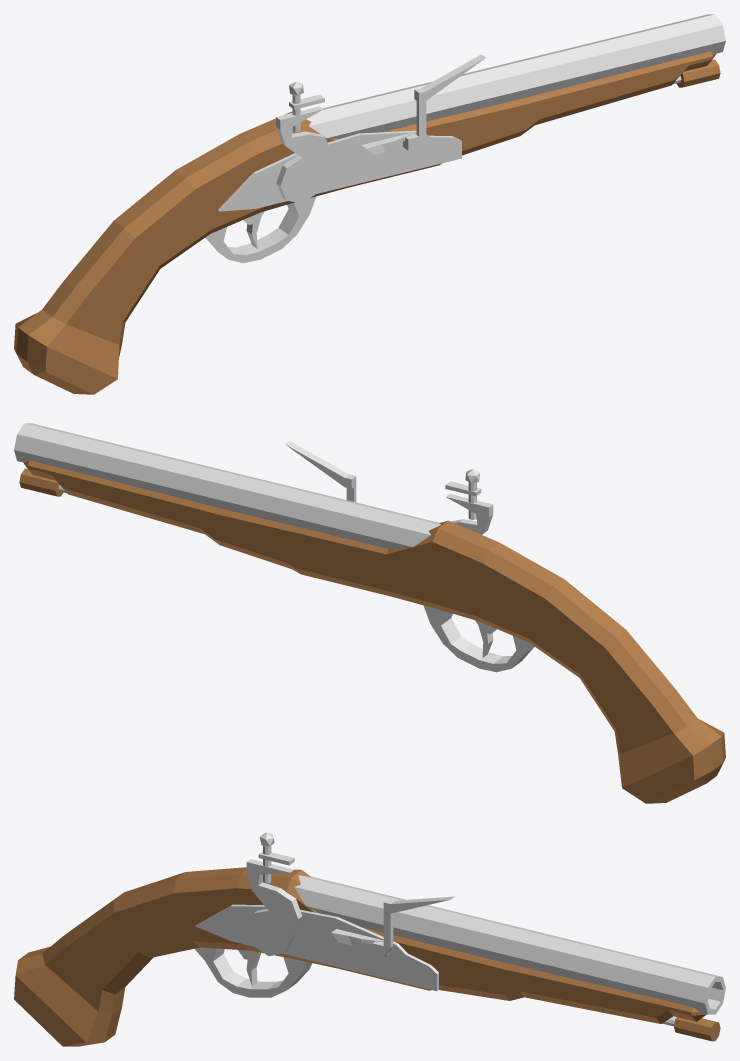
The model's file is pistolet modele 1733.fbx.
The picture shows the model from 3 angles, top to bottom: view 1: azimuth 30°, elevation 25°; view 2: azimuth 150°, elevation 25°; view 3: azimuth 330°, elevation 25°; orthographic projection.
Parts seen in each view (by area): view 1: base, barrel, metal1, cock, triggerguard, trizzen, ramrod, jaw; view 2: base, barrel, triggerguard, trizzen, cock, ramrod, jaw; view 3: base, barrel, metal1, cock, triggerguard, trizzen, ramrod, jaw, pan, trigger.
Boxes of the visible parts, left/top/right/bottom form: base: left=14, top=51, right=715, bottom=394; barrel: left=306, top=14, right=725, bottom=138; metal1: left=218, top=130, right=461, bottom=211; cock: left=276, top=106, right=331, bottom=203; triggerguard: left=205, top=196, right=316, bottom=263; trizzen: left=403, top=54, right=485, bottom=150; ramrod: left=673, top=59, right=720, bottom=87; jaw: left=289, top=81, right=324, bottom=132; base: left=24, top=460, right=725, bottom=803; barrel: left=14, top=423, right=440, bottom=548; triggerguard: left=423, top=605, right=534, bottom=672; trizzen: left=285, top=440, right=356, bottom=502; cock: left=446, top=494, right=493, bottom=534; ramrod: left=19, top=468, right=66, bottom=496; jaw: left=445, top=469, right=481, bottom=519; base: left=14, top=867, right=706, bottom=1046; barrel: left=294, top=875, right=725, bottom=1014; metal1: left=195, top=904, right=438, bottom=991; cock: left=246, top=859, right=302, bottom=956; triggerguard: left=194, top=947, right=312, bottom=997; trizzen: left=372, top=896, right=454, bottom=957; ramrod: left=662, top=1017, right=720, bottom=1041; jaw: left=258, top=832, right=294, bottom=883; pan: left=331, top=929, right=383, bottom=946; trigger: left=238, top=950, right=261, bottom=986.
Bounding box in the file's own units: 382 × 142 × 32.4.
